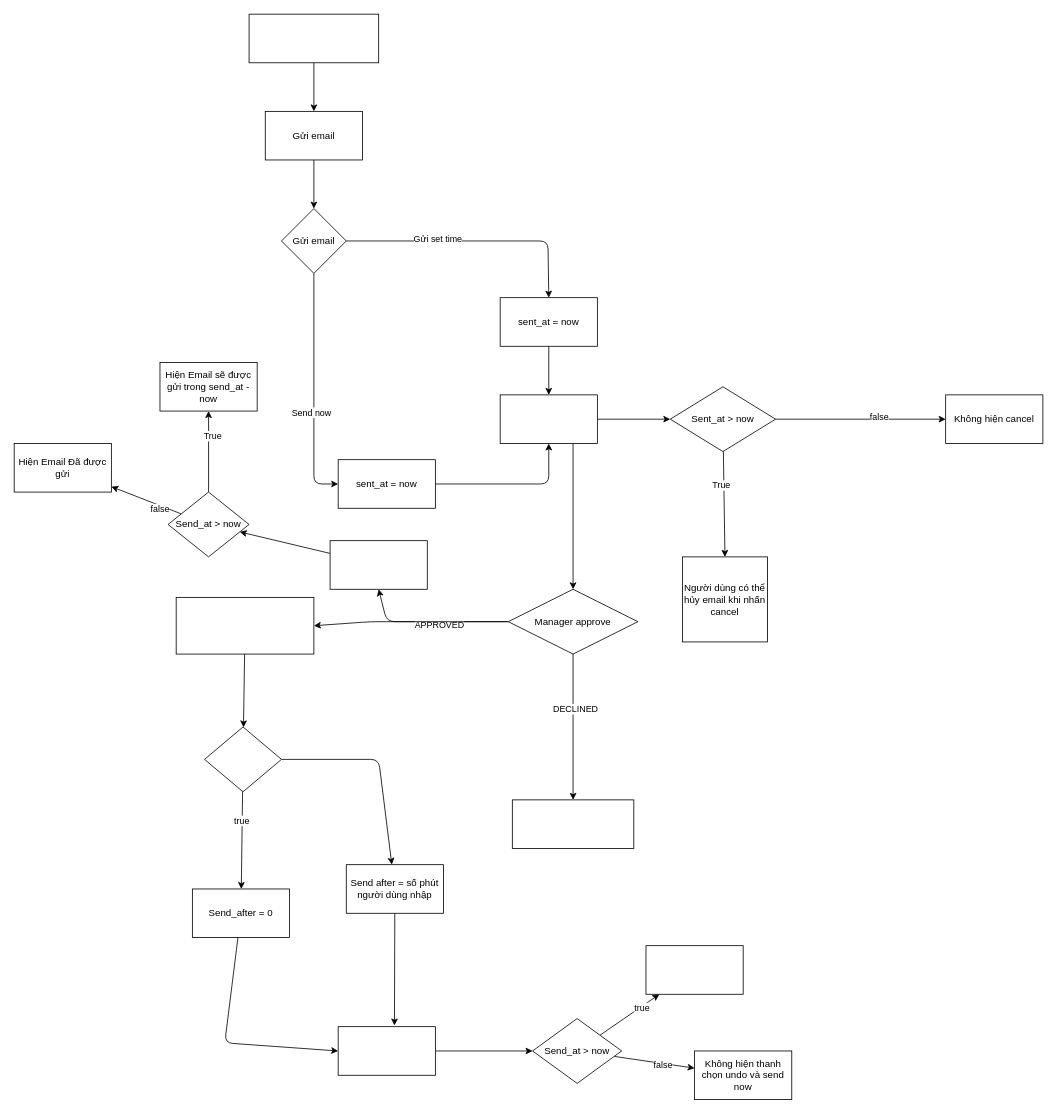
Some shapes in this 1057 by 1114 pixel diagram are drawn without their labels. Here are the shapes that lost their labels. From the top down, the box of each, then its label:
(248, 13, 379, 63): Employee
(499, 394, 597, 443): Pending
(329, 540, 427, 589): SHOW EMAIL APPROVED
(175, 597, 314, 654): Hiện modal có approved now và Approved set time, input chọn số phút
(204, 726, 281, 792): Is Send now
(512, 799, 634, 848): Email Status declined
(645, 945, 743, 994): Hiện undo và send now
(337, 1026, 435, 1075): Email Approved
